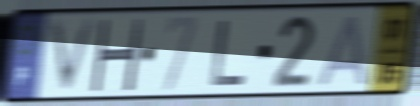2: (270, 13, 320, 92)
7: (160, 14, 203, 95)
A: (315, 13, 372, 89)
H: (88, 17, 146, 94)
L: (208, 18, 249, 89)
V: (45, 12, 103, 99)
